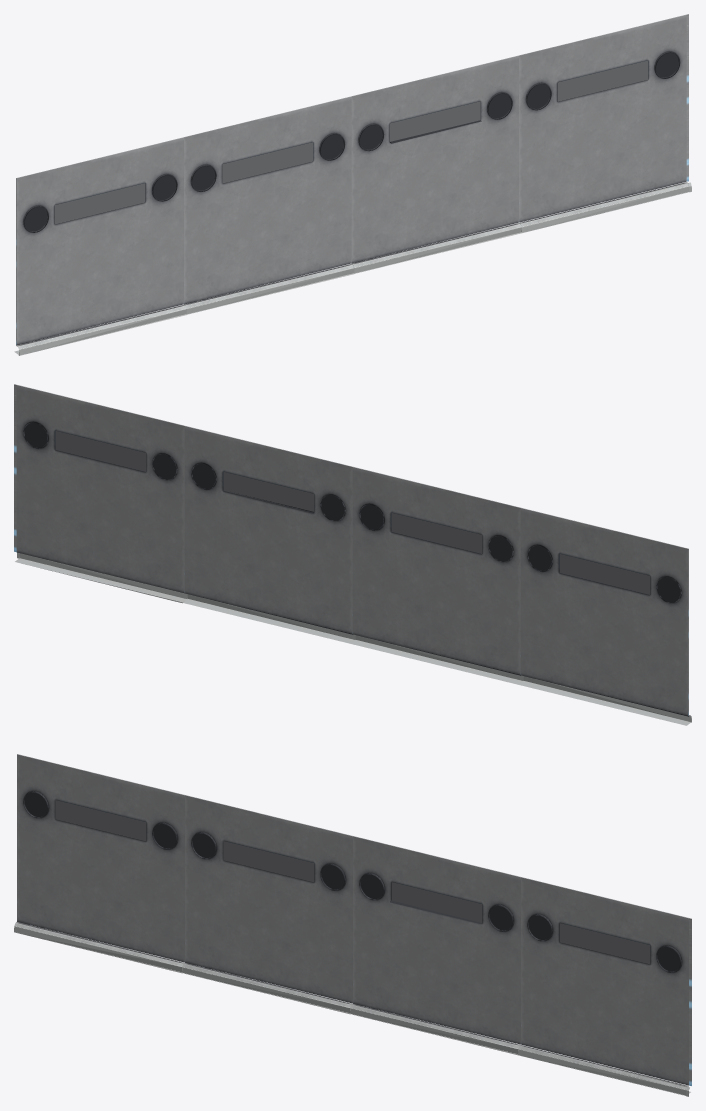
The model's file is WALLNEWSMALL.fbx.
3 views of the same model, one above another, from view 1: azimuth 30°, elevation 25°; view 2: azimuth 150°, elevation 25°; view 3: azimuth 330°, elevation 25° (orthographic).
Parts seen in each view (by area): view 1: Object_27; view 2: Object_27; view 3: Object_27.
Part boxes in pixels (x1,y1,x2,y2): Object_27: [14, 14, 691, 355]; Object_27: [14, 384, 691, 725]; Object_27: [14, 754, 691, 1096].
Size of the model in its own units: 803 by 200 by 10.97.
